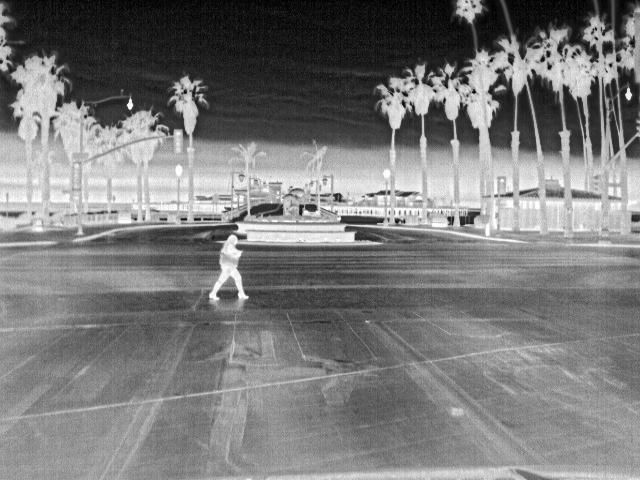car: (301, 202, 322, 216)
person: (209, 233, 250, 301)
